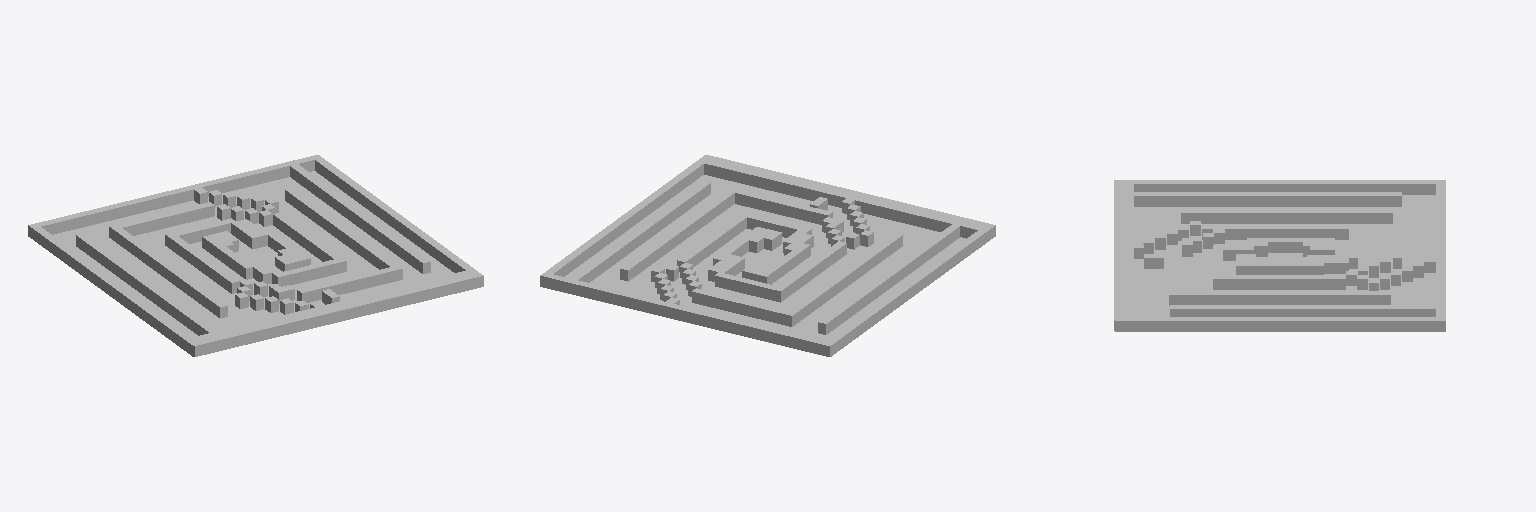
File: level5.obj
3 renders of one model, left to right at view 1: azimuth 30°, elevation 25°; view 2: azimuth 150°, elevation 25°; view 3: azimuth 270°, elevation 25°, orthographic.
Parts seen in each view (by area): view 1: level5; view 2: level5; view 3: level5.
Part boxes in pixels (x1,y1,x2,y2): level5: (28, 155, 483, 356); level5: (540, 155, 995, 356); level5: (1114, 180, 1445, 331).
Size of the model in its own units: 50.54 by 1.85 by 50.04.